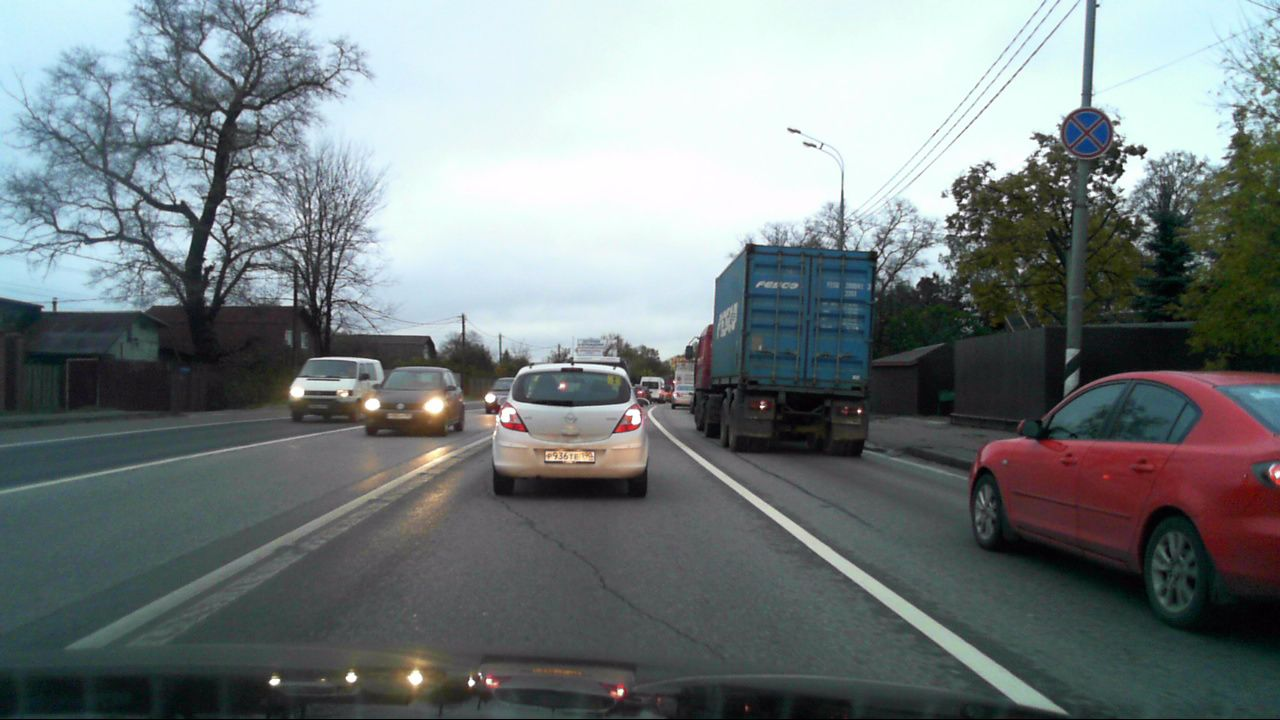No Parking: (1062, 108, 1114, 158)
